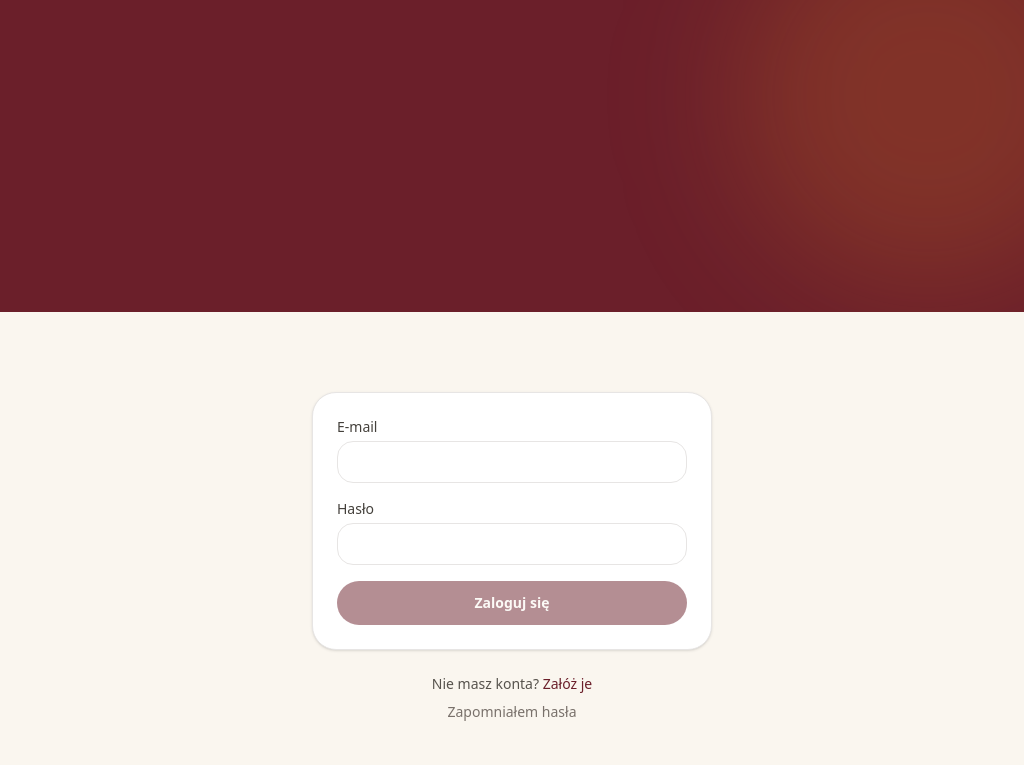
Login page › pokazuje komunikat błędu z backendu przy 401
Step 1. Type "ala@example.com" into the field labelled "E-mail" → (512, 462), box x1=337 y1=441 x2=687 y2=483
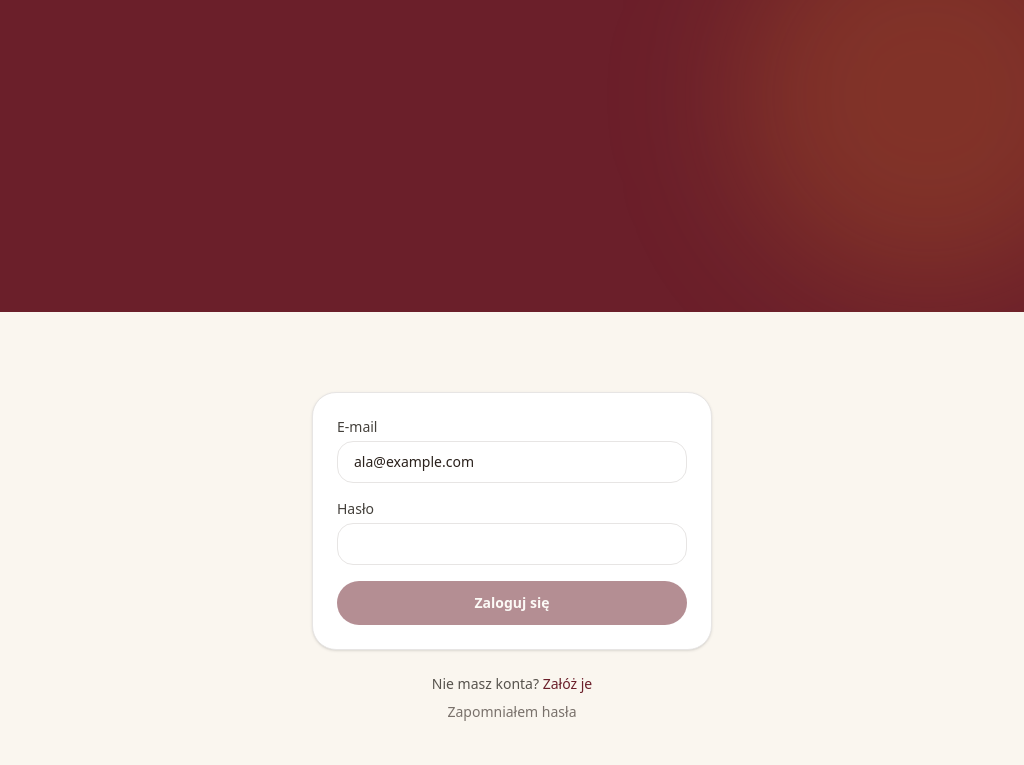
Step 2. Type "zle" into the password field labelled "Hasło" → (512, 544), box x1=337 y1=523 x2=687 y2=565
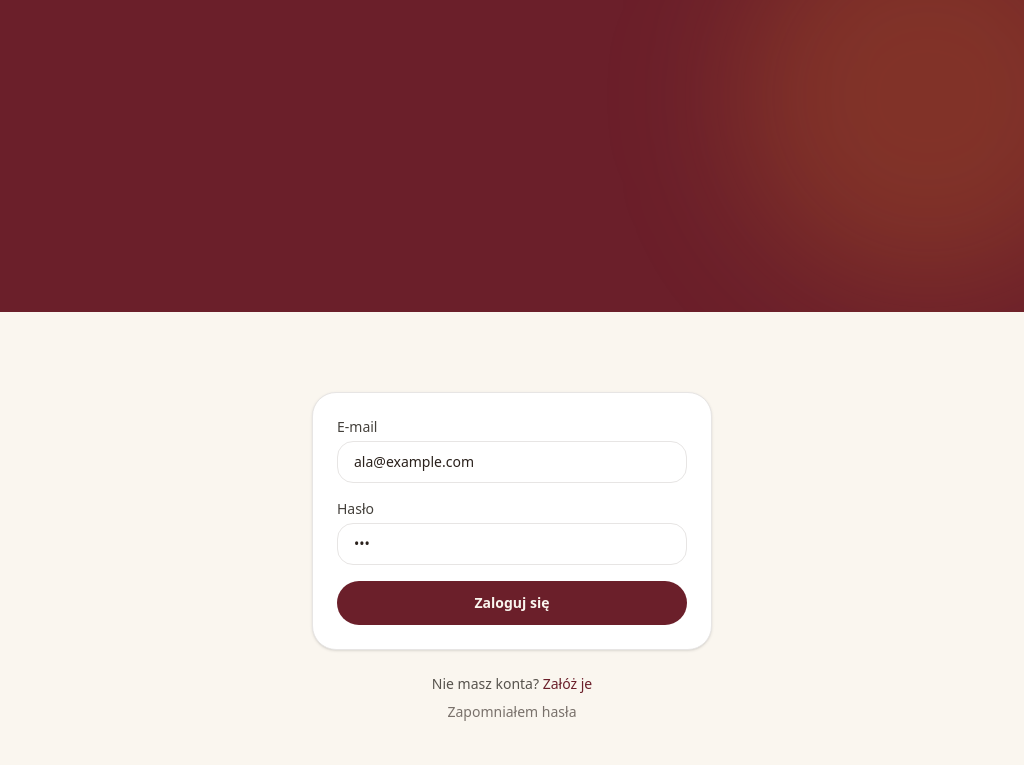
Step 3. Click the button "Zaloguj się" → (512, 603), box x1=337 y1=581 x2=687 y2=625
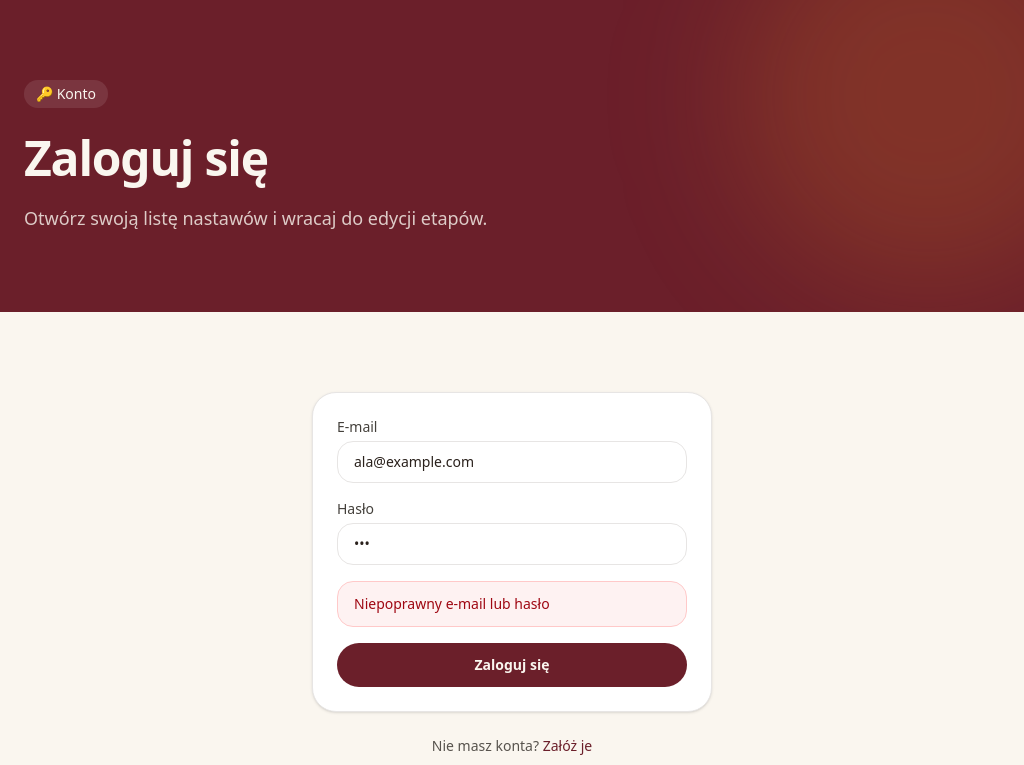
Check: the message reads "Niepoprawny e-mail lub hasło", box x1=354 y1=594 x2=550 y2=613
